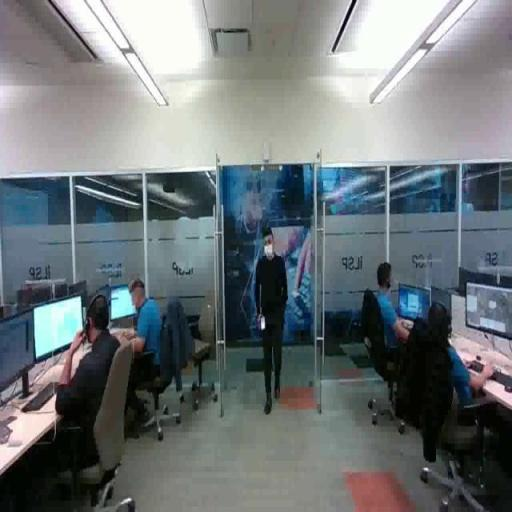person: (406, 299, 512, 472), (47, 290, 129, 498), (119, 278, 175, 420), (363, 259, 423, 386), (254, 225, 291, 417)
